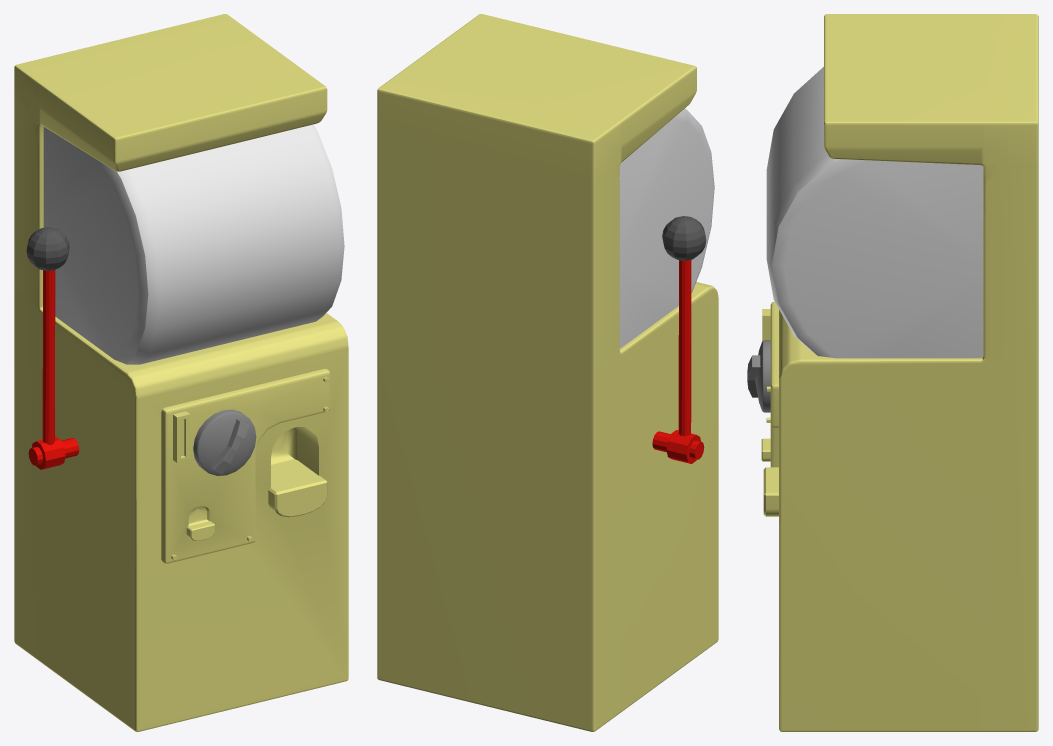
File: gachapon.fbx
3 views of the same model, side by side, from view 1: azimuth 30°, elevation 25°; view 2: azimuth 150°, elevation 25°; view 3: azimuth 270°, elevation 25° (orthographic). The views are drawn at different scales.
Visible parts, largest first — view 1: base, Vitre, manette, rotate_button; view 2: base, Vitre, manette; view 3: base, Vitre, rotate_button.
Boxes of the visible parts, left/top/right/bottom form: base: left=14, top=14, right=348, bottom=731; Vitre: left=43, top=124, right=344, bottom=364; manette: left=26, top=227, right=79, bottom=469; rotate_button: left=193, top=409, right=256, bottom=475; base: left=377, top=14, right=718, bottom=731; Vitre: left=619, top=108, right=714, bottom=348; manette: left=652, top=216, right=706, bottom=463; base: left=761, top=14, right=1038, bottom=731; Vitre: left=766, top=67, right=983, bottom=358; rotate_button: left=747, top=340, right=770, bottom=412.
Bounding box in the file's own units: 177 × 380 × 165.
